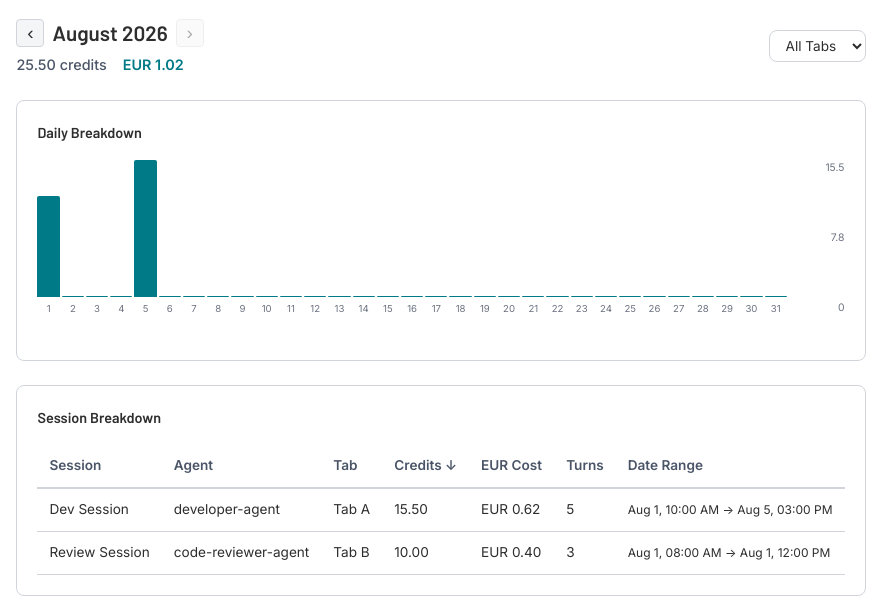
Scenario: UsagePanel › disables the forward arrow at the current month and the back arrow at the oldest
Expected: the heading "August 2026" is shown, [52,16,168,49]
Expected: the button named "Next month" is disabled, [176,19,204,47]
Move to the oldest month.
Click the button named "Previous month" at (30, 33), box [16,19,44,47]
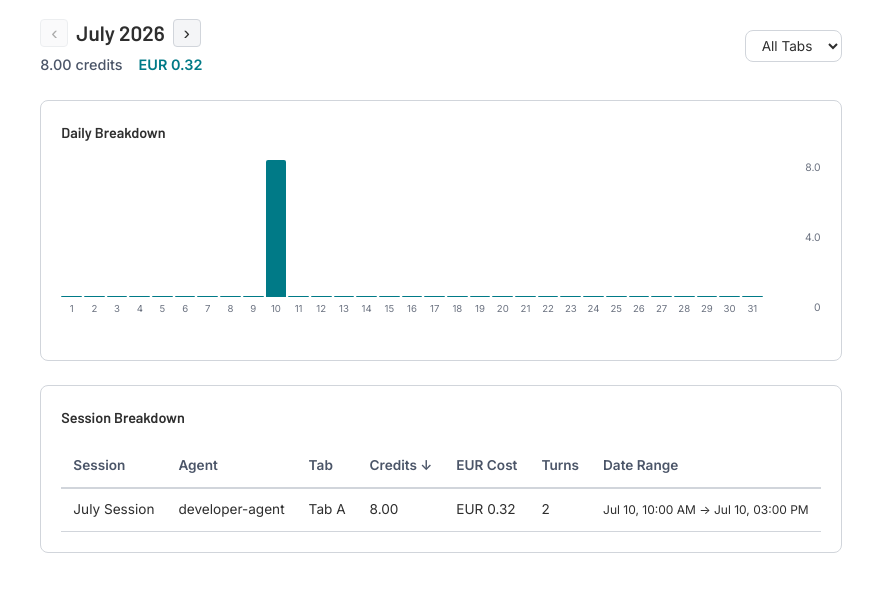
Expected: the heading "July 2026" is shown, [76,16,165,49]
Expected: the button named "Previous month" is disabled, [40,19,68,47]
Expected: the button named "Next month" is enabled, [173,19,201,47]
